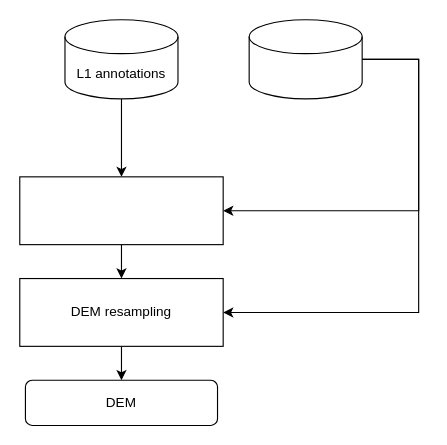
This 447x445 diagram has some shape labels left out. Here are the shapes that lost their labels. From the top down, the centre of each, then its label:
At [305,59]: "Parameters configuration file".
At [121,210]: "DEM import".
